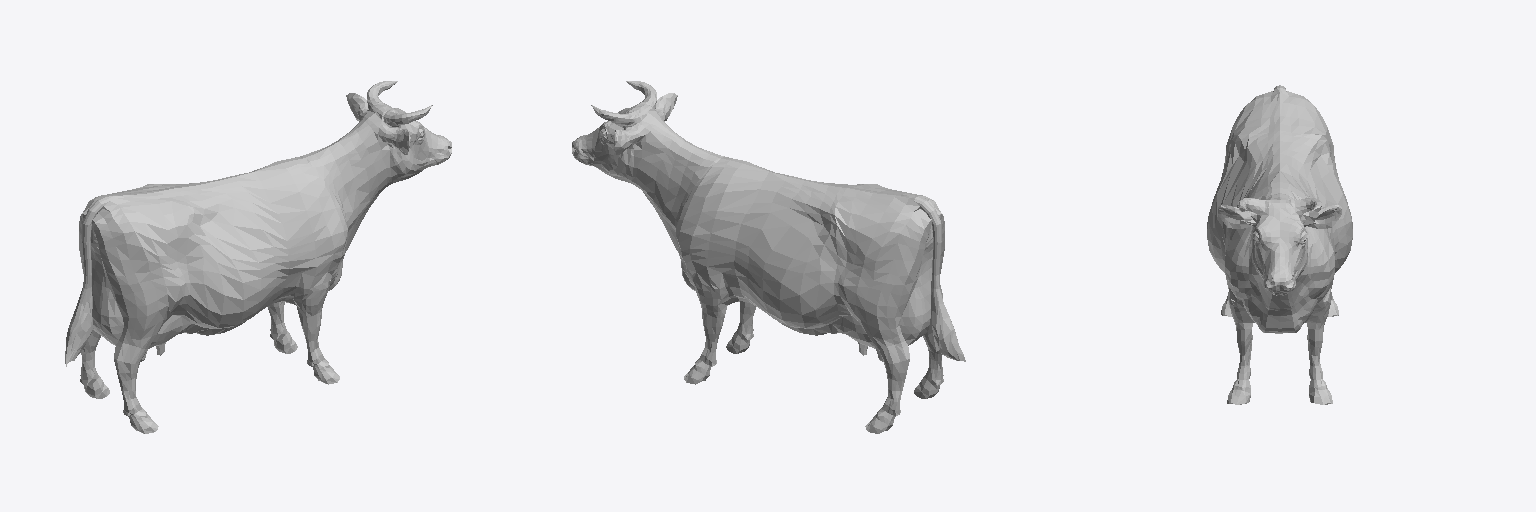
File: cow.obj
3 renders of one model, left to right at view 1: azimuth 30°, elevation 25°; view 2: azimuth 150°, elevation 25°; view 3: azimuth 270°, elevation 25°, orthographic.
Bounding box in the file's own units: 4.6 × 2.82 × 1.5.